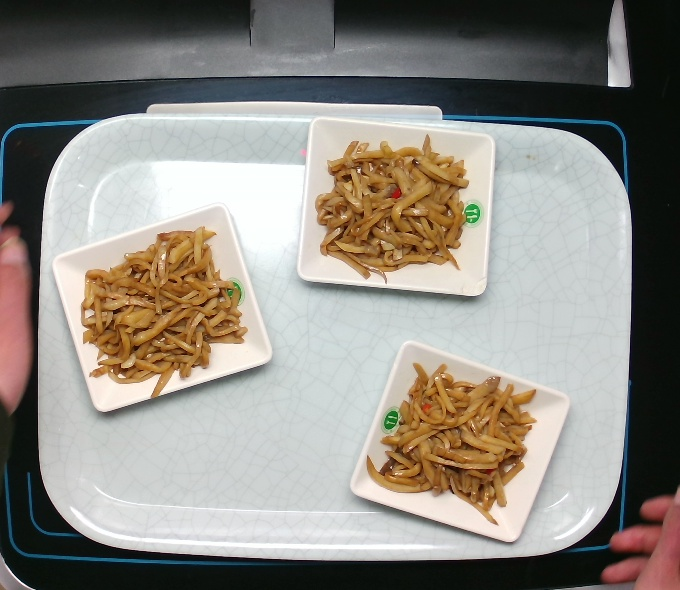wcq-LiangBanMoGu: (70, 220, 253, 404), (359, 354, 544, 530), (308, 128, 476, 287)
